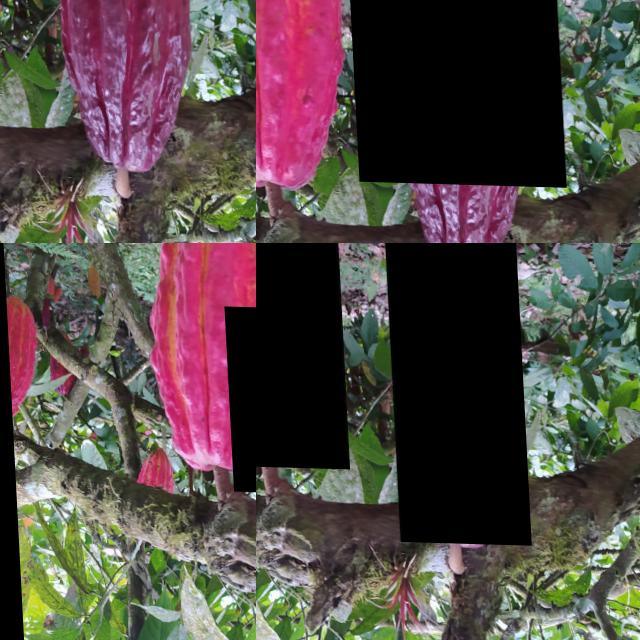Sana: (381, 243, 526, 542), (337, 0, 561, 184), (256, 243, 345, 467), (221, 305, 256, 491)
